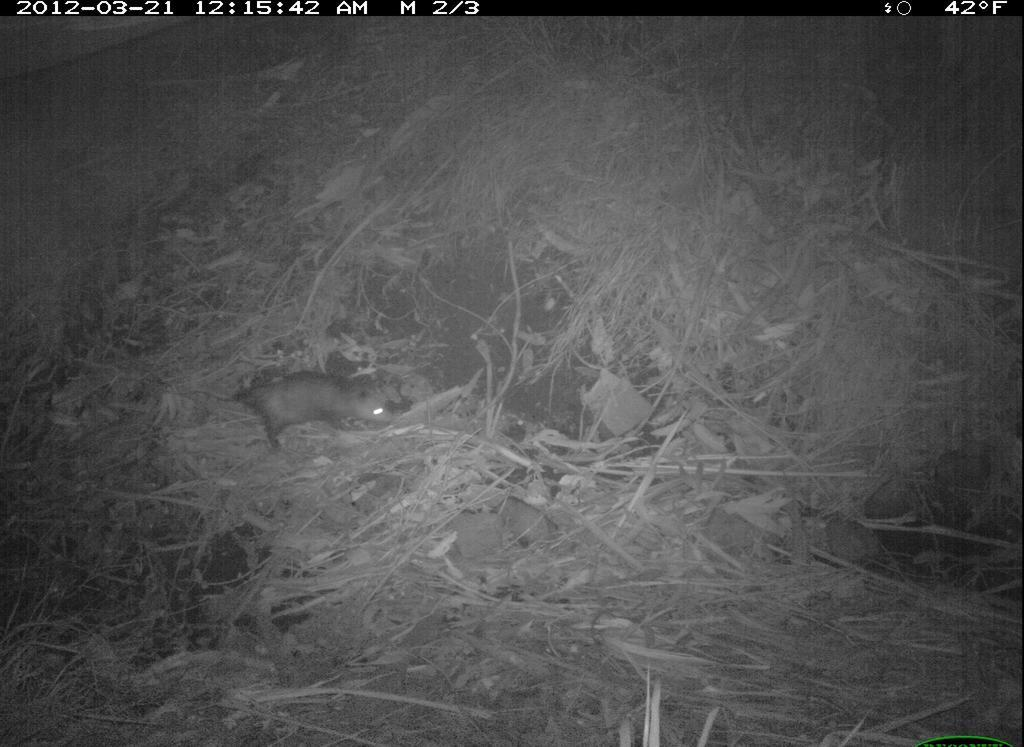opossum: (221, 350, 414, 461)
